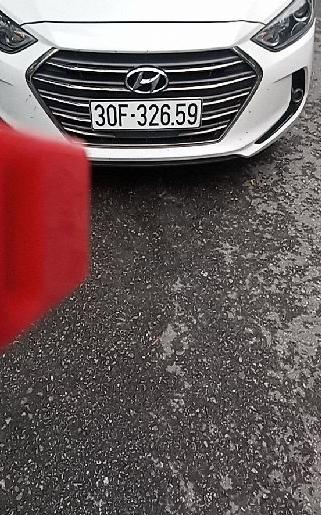Plate-iWeP: (90, 98, 203, 130)
